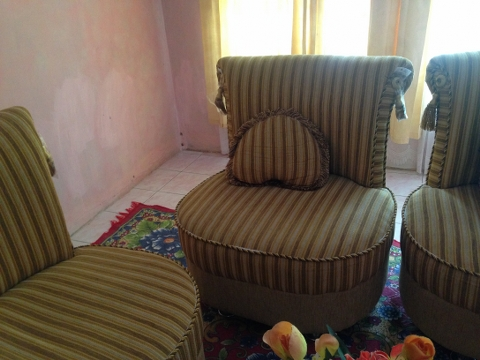kursi: (175, 55, 414, 331)
